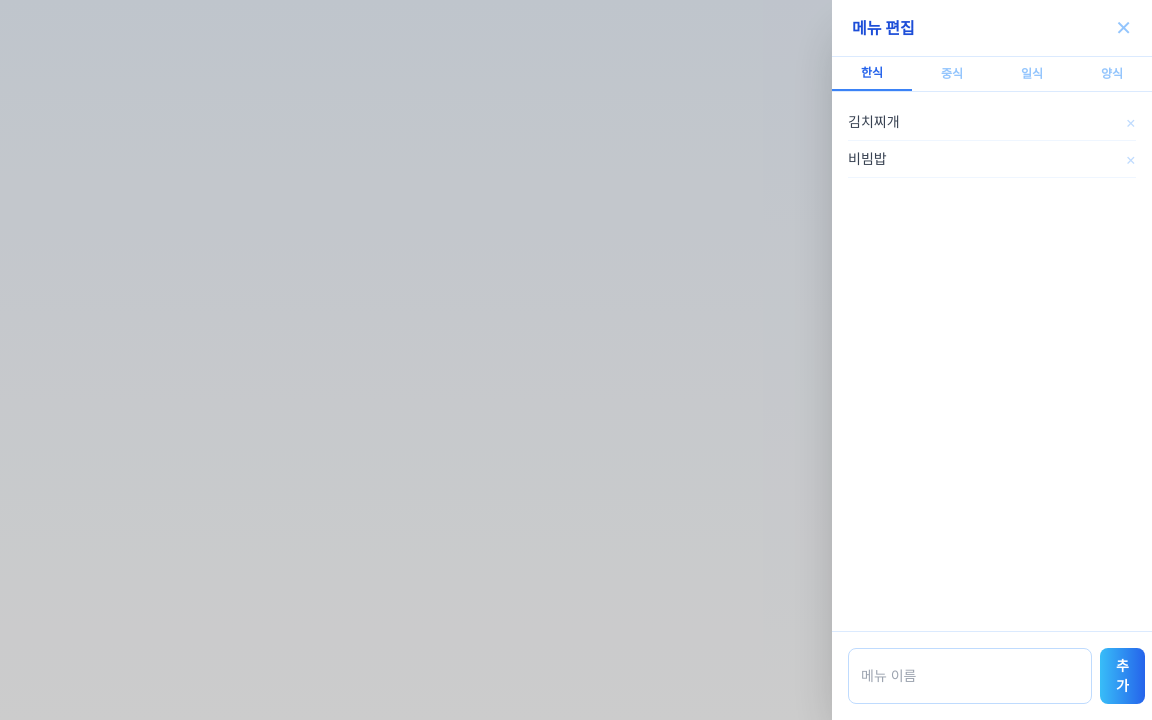
Scenario: MenuEditor › 중식 탭 클릭 시 중식 메뉴로 전환된다
What coordinates should you click on to do the following:
click the button "중식"
I would click on:
 (952, 74)
Its box is [912,57,992,91].
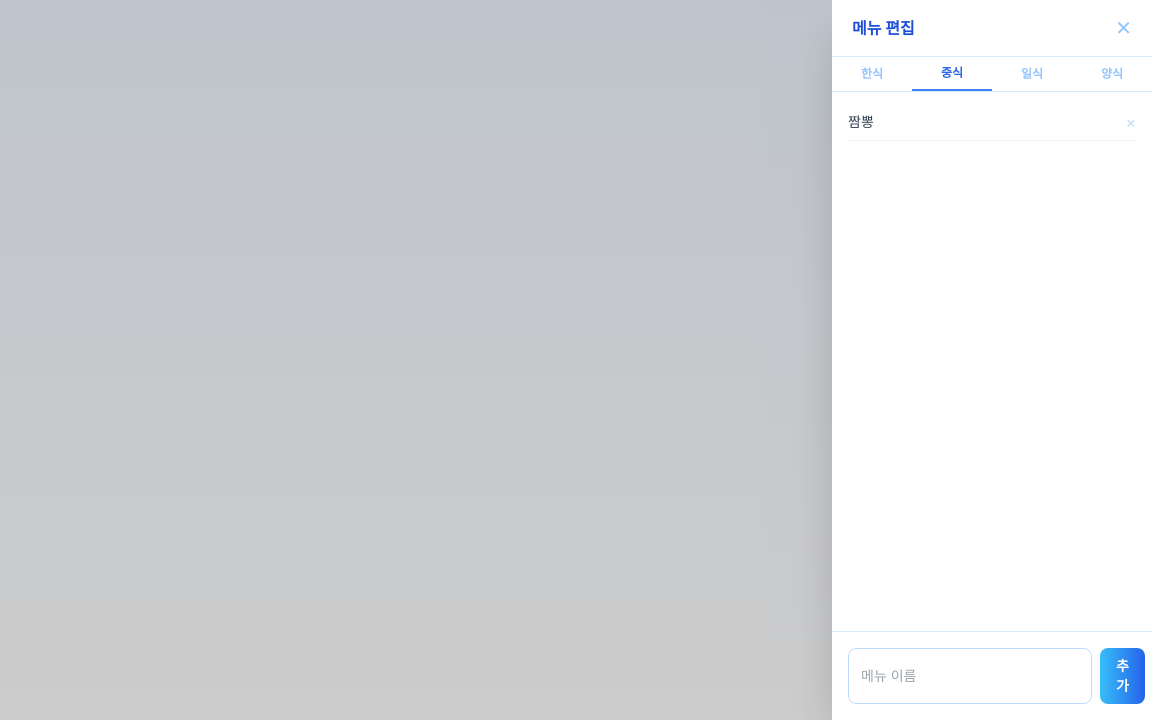
Expected: the text "짬뽕" is shown, [848,112,874,132]
